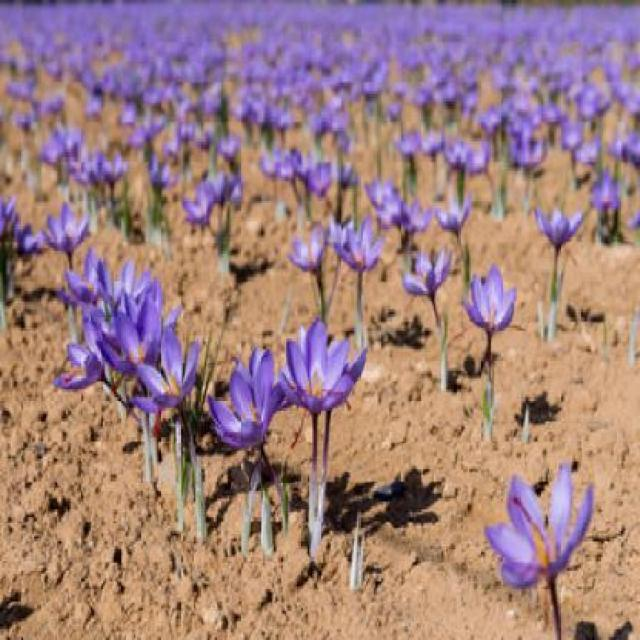saffron open: (488, 465, 593, 638), (283, 320, 362, 547), (133, 324, 204, 540), (209, 352, 283, 514), (334, 217, 382, 344), (464, 264, 515, 368), (403, 250, 450, 314), (57, 248, 99, 308), (536, 208, 582, 257), (290, 230, 323, 273), (436, 197, 471, 237)
